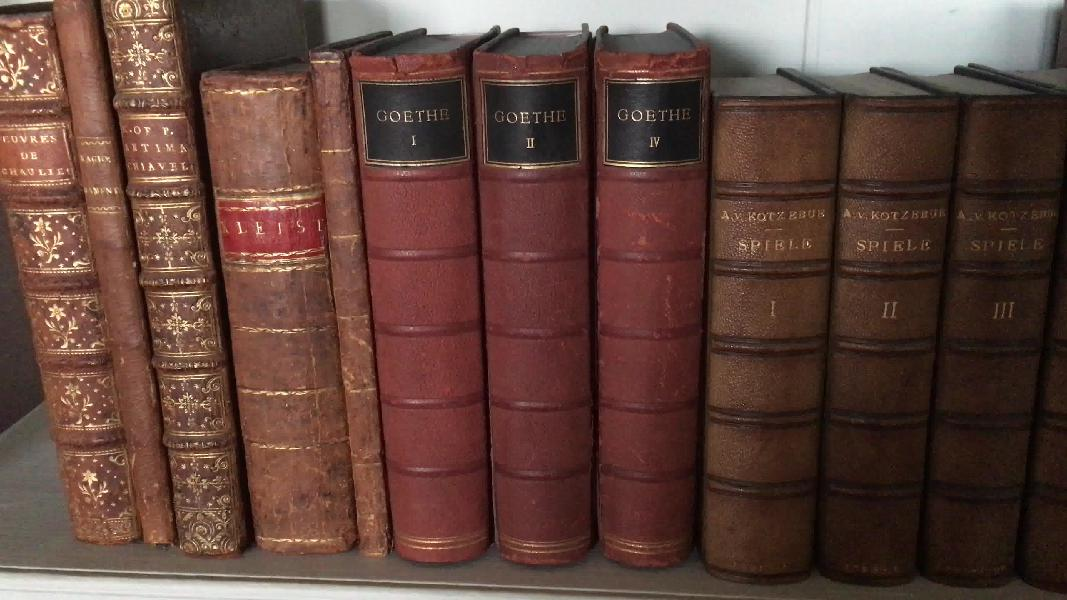Aa6-10: (300, 43, 398, 563)
Aa6-11_13: (338, 34, 720, 590)
Aa6-14_17: (706, 89, 1067, 583)
Aa6-6: (2, 13, 129, 543)
Aa6-7: (51, 1, 196, 552)
Aa6-8: (98, 1, 269, 565)
Aa6-9: (192, 67, 358, 555)
